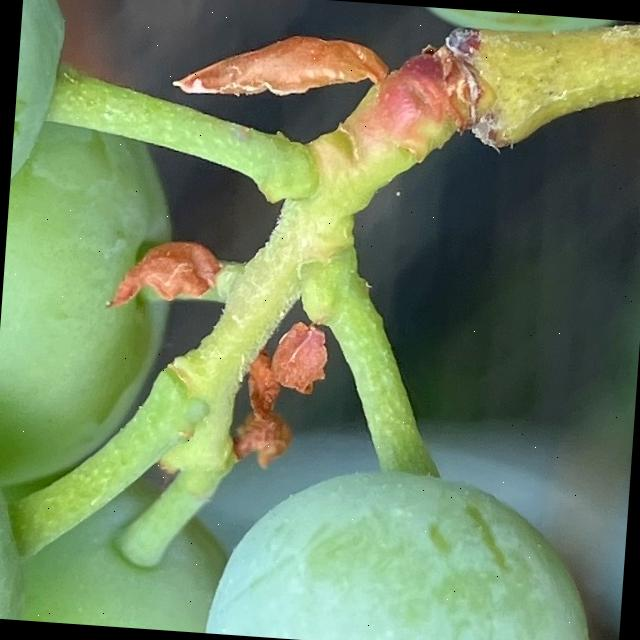Blueberries: (197, 454, 601, 640)
